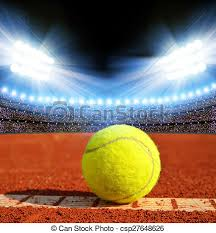tennis_ball: (82, 123, 161, 204)
